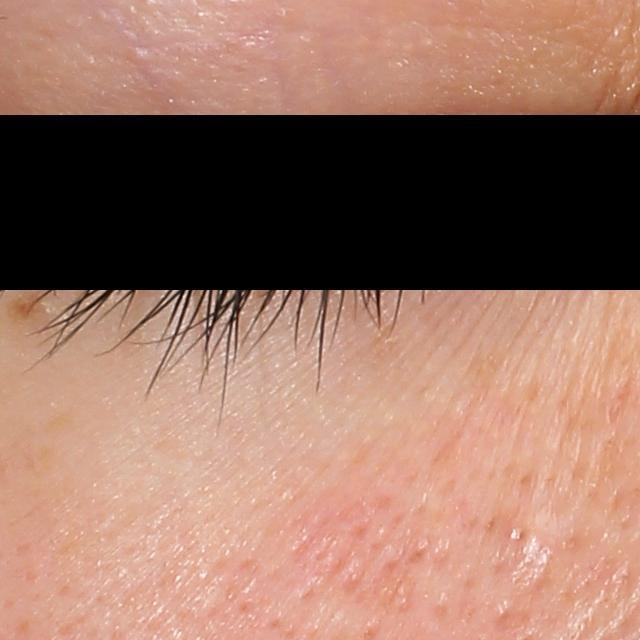melasma: (5, 288, 52, 325)
